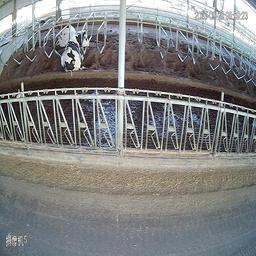cow: (61, 31, 91, 73), (56, 21, 76, 46)
